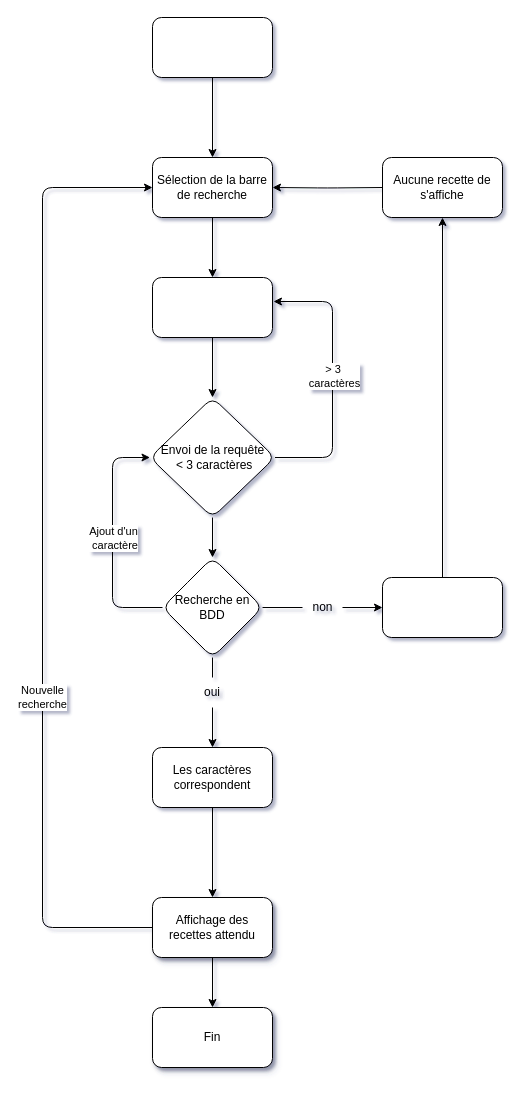
Image size: 526x1098. Some labels were removed from this diagram. The centre of each missing label's shape, as x and y in pixels:
"Début" belongs at [212,47].
"Pas de concordances" belongs at [442,607].
"Rentre un caractères" belongs at [212,307].
